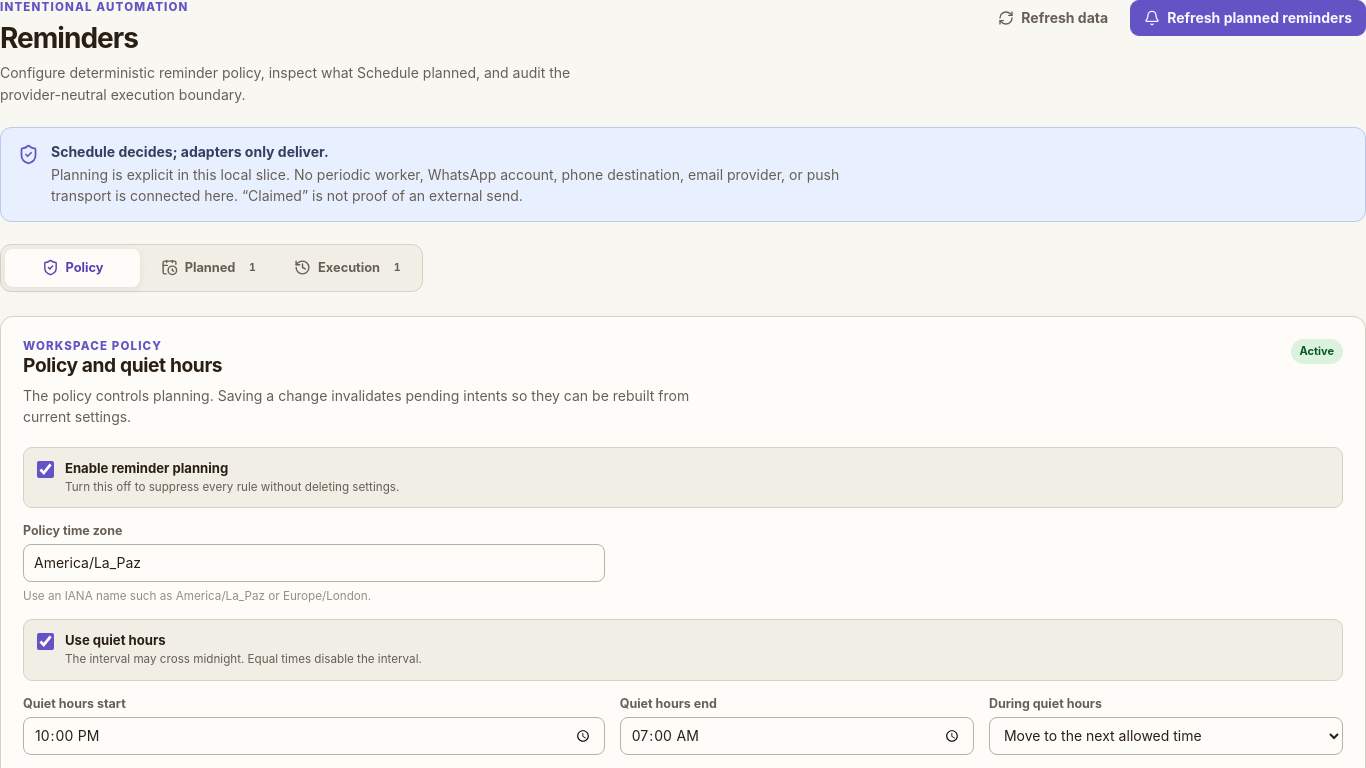
RemindersView › materializes explicitly, reports the result, and opens planned intent history
Check: the heading "Policy and quiet hours" is shown, box [23, 353, 222, 377]
Click the button "Refresh planned reminders" at (1248, 18), box [1130, 0, 1365, 36]
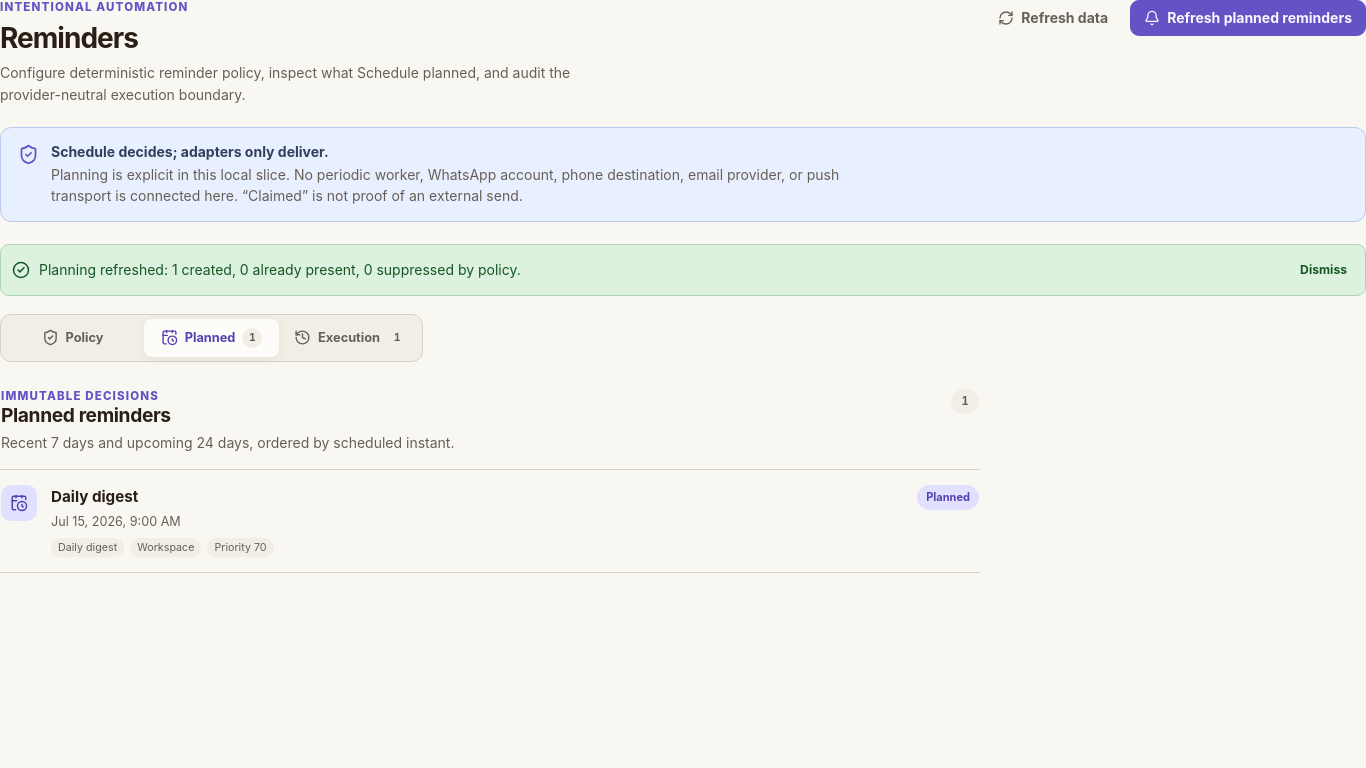
Check: the heading "Daily digest" is shown, box [51, 487, 138, 508]
Check: the heading "Planned reminders" is shown, box [1, 403, 171, 427]
Check: the text "Planning refreshed: 1 created" is shown, box [39, 261, 521, 278]
